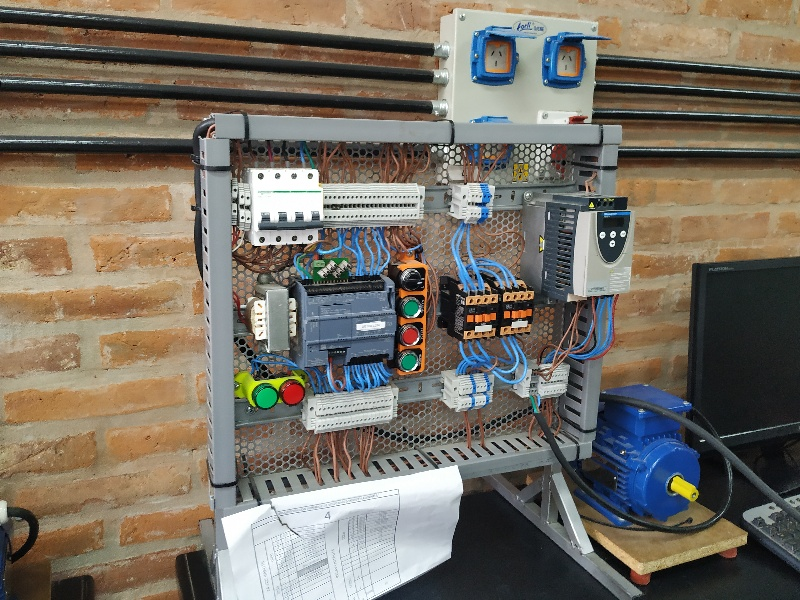Tablero 4: (223, 127, 638, 477)
